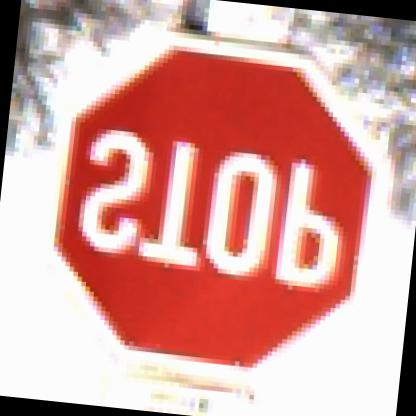stop: (27, 30, 397, 399)
